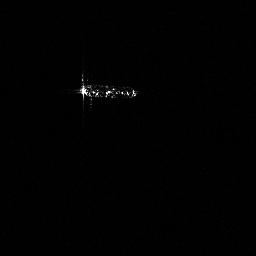ship: (75, 70, 141, 105)
